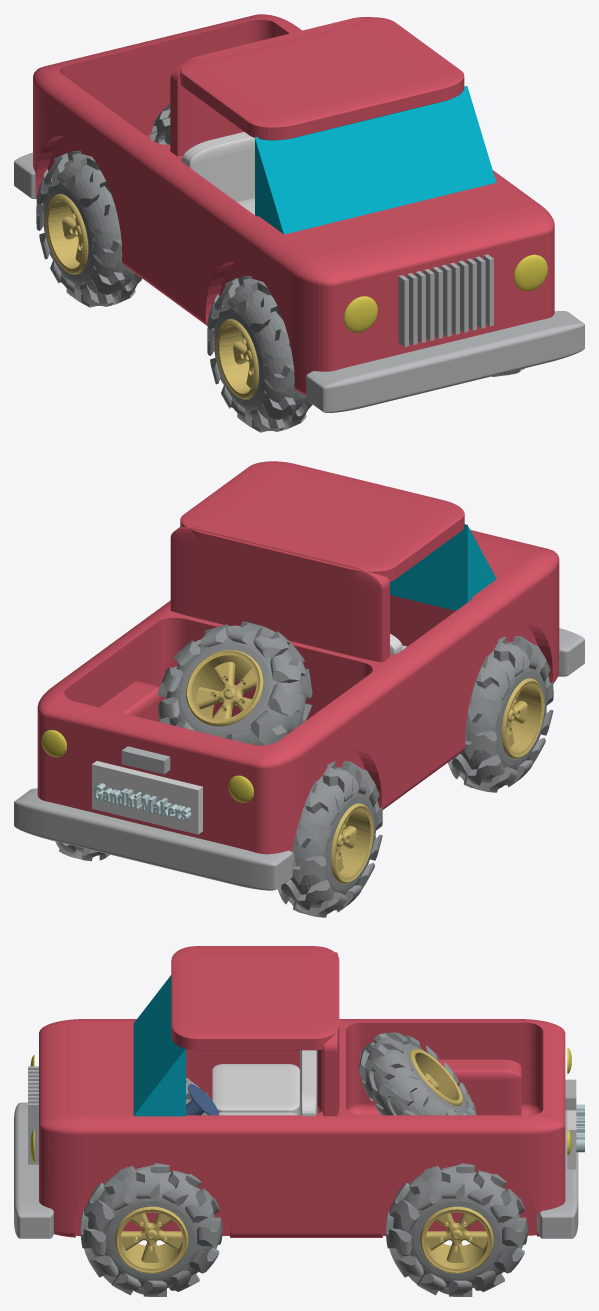
The model's file is modelo.glb.
3 views of the same model, one above another, from view 1: azimuth 30°, elevation 25°; view 2: azimuth 150°, elevation 25°; view 3: azimuth 270°, elevation 25° (orthographic). The views are drawn at different scales.
Parts seen in each view (by area): view 1: Mesh_Mesh_head_geo.001_lambert2SG.001; view 2: Mesh_Mesh_head_geo.001_lambert2SG.001; view 3: Mesh_Mesh_head_geo.001_lambert2SG.001.
Part boxes in pixels (x1,y1,x2,y2): Mesh_Mesh_head_geo.001_lambert2SG.001: [14, 14, 584, 432]; Mesh_Mesh_head_geo.001_lambert2SG.001: [14, 461, 584, 917]; Mesh_Mesh_head_geo.001_lambert2SG.001: [14, 946, 584, 1296].
Size of the model in its own units: 0.063 by 0.0602 by 0.1224.
